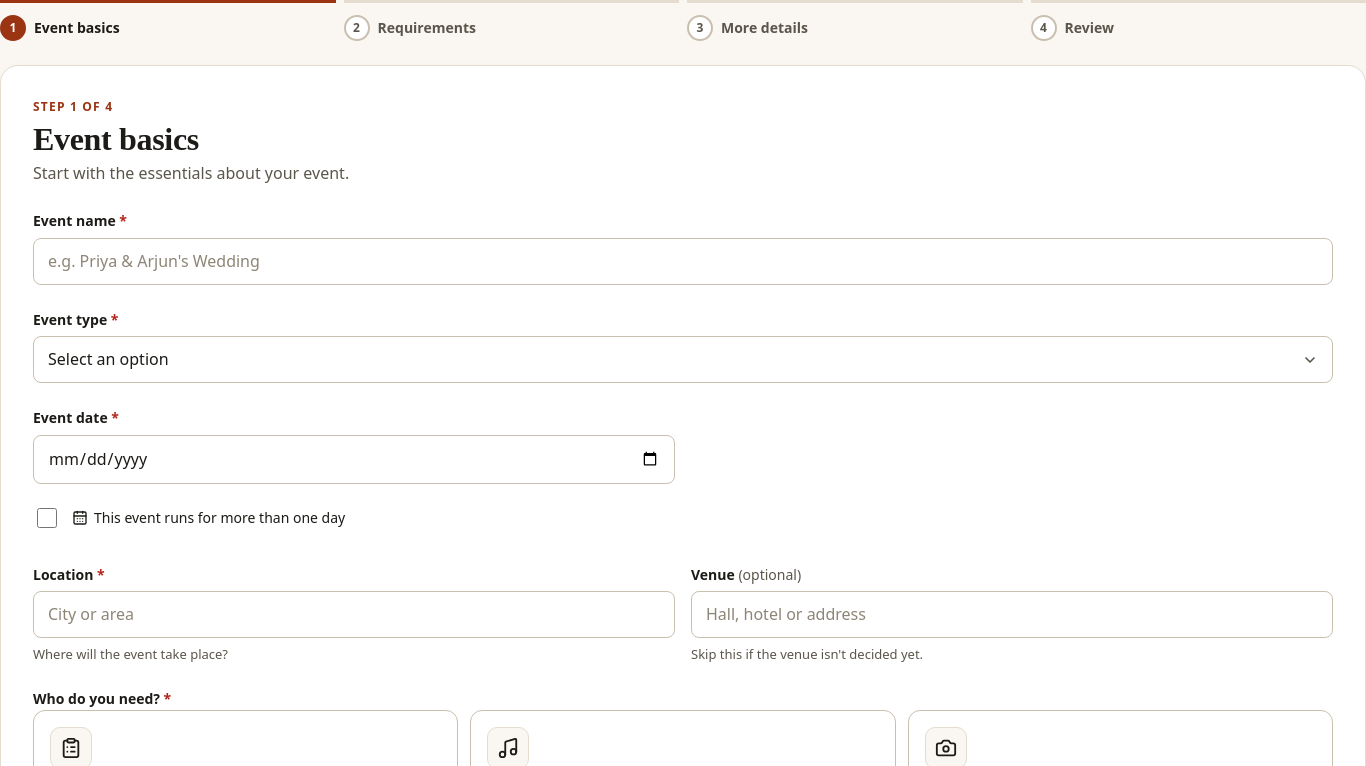
Test: RequirementWizard › steps 2 and 3 adapt to Performer
Step 1. Type "Wedding Celebration" into the field labelled "Event name *" → (683, 261), box top-left (33, 238), bottom-right (1333, 285)
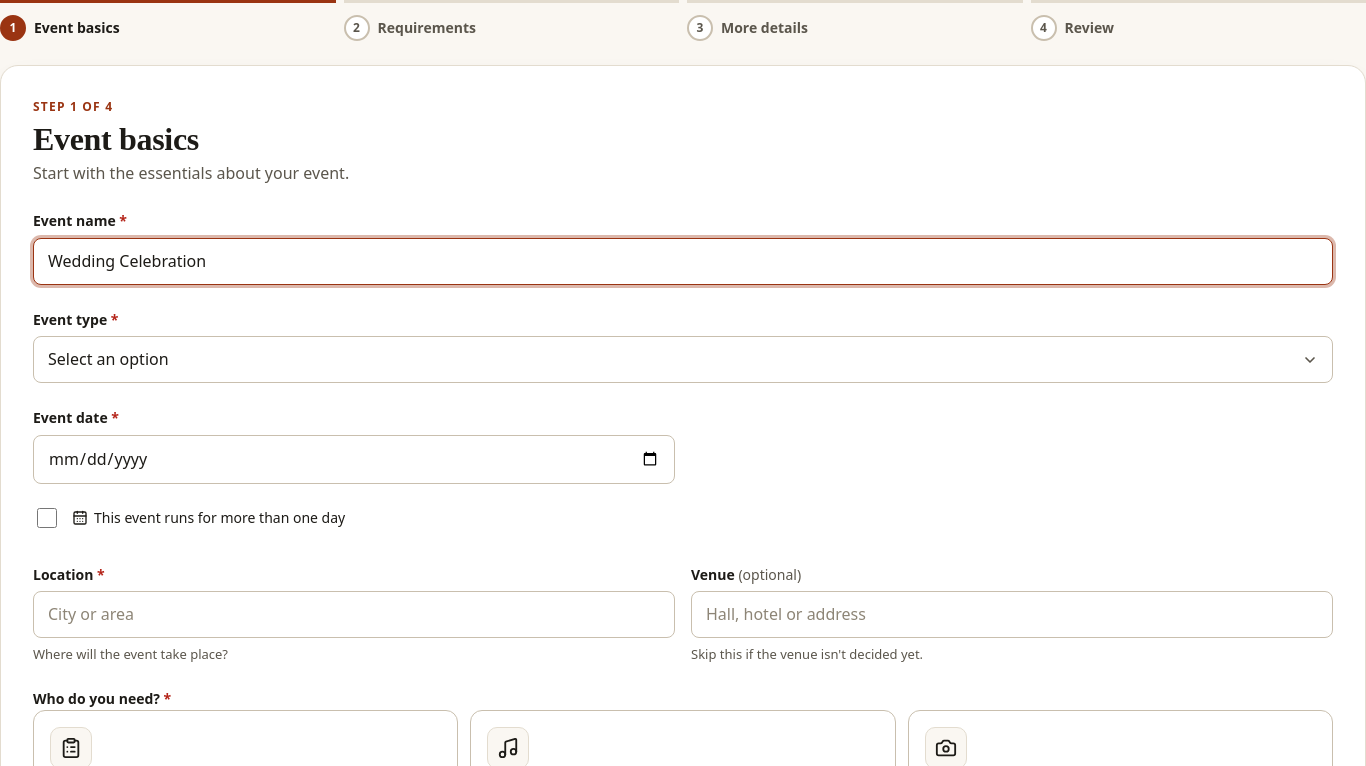
Step 2. Select "Wedding" in the dropdown labelled "Event type *" → (683, 360), box top-left (33, 336), bottom-right (1333, 383)
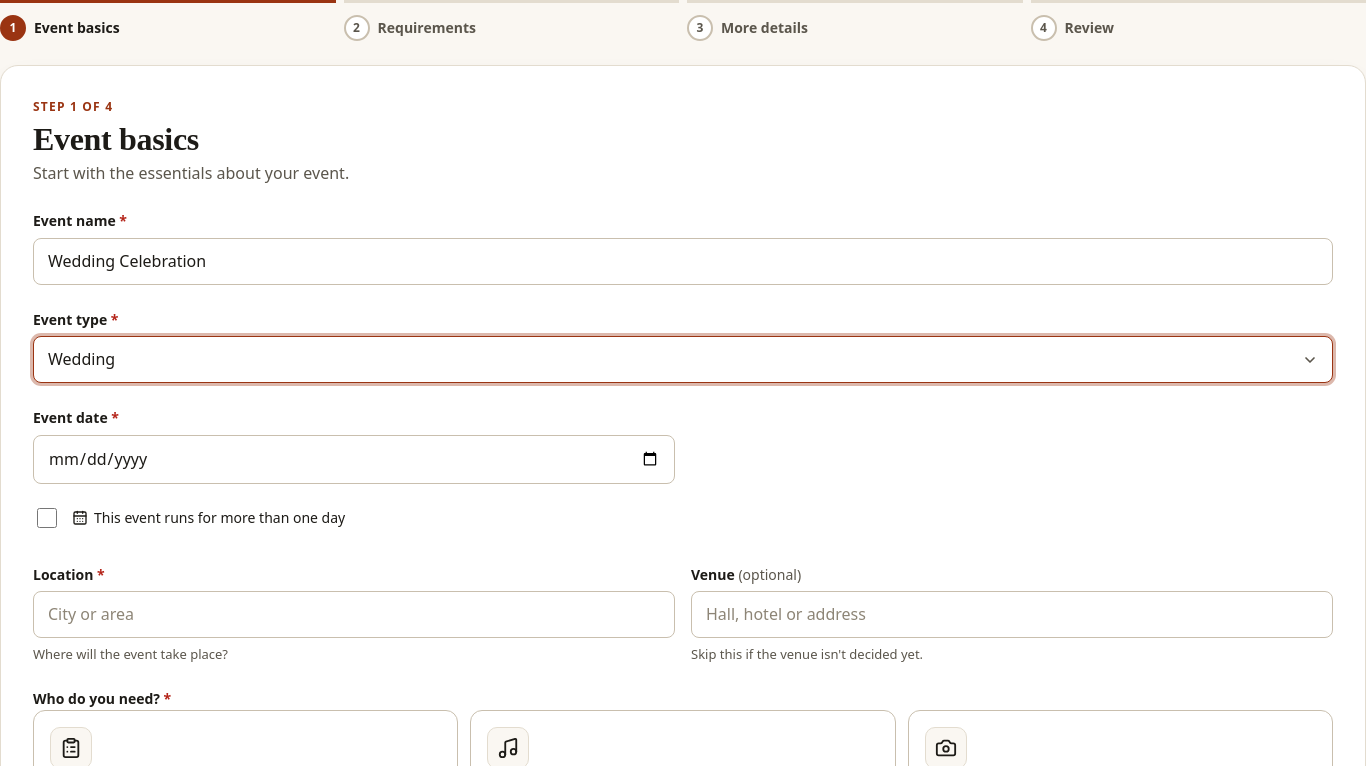
Step 3. Type "2026-12-15" into the date field labelled "Event date *" → (354, 459), box top-left (33, 435), bottom-right (675, 484)
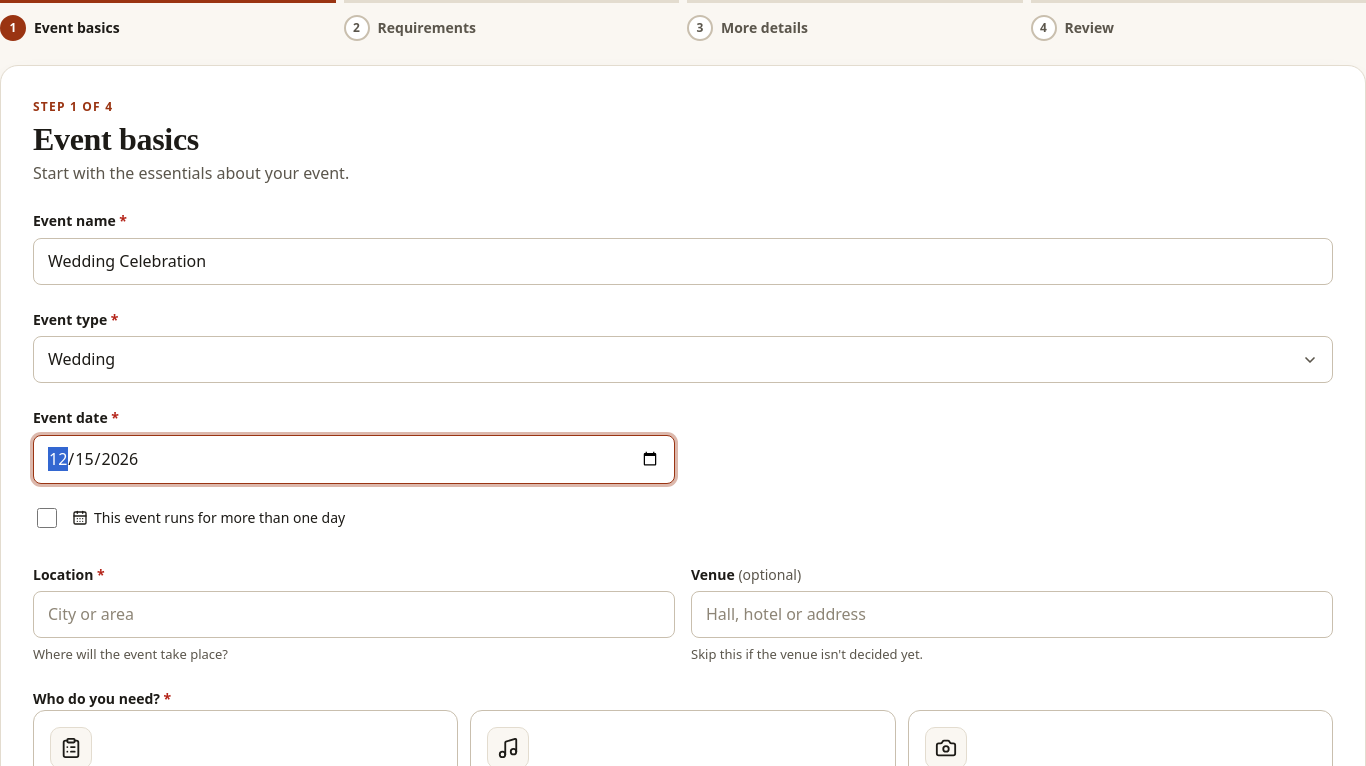
Step 4. Type "Hyderabad" into the field labelled "Location *" → (354, 615), box top-left (33, 591), bottom-right (675, 638)
(page scrolled)
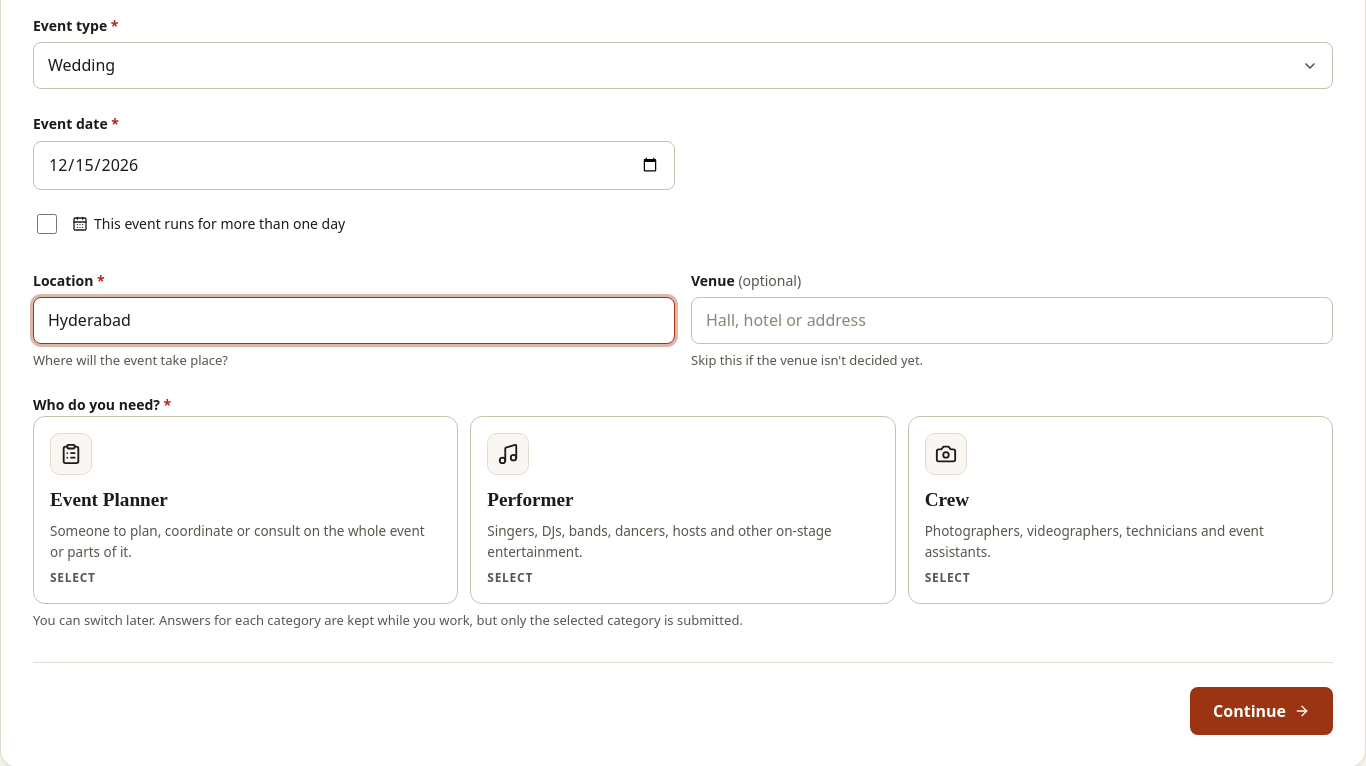
Step 5. Click the radio button labelled "Performer" → (508, 454), box top-left (470, 416), bottom-right (896, 604)
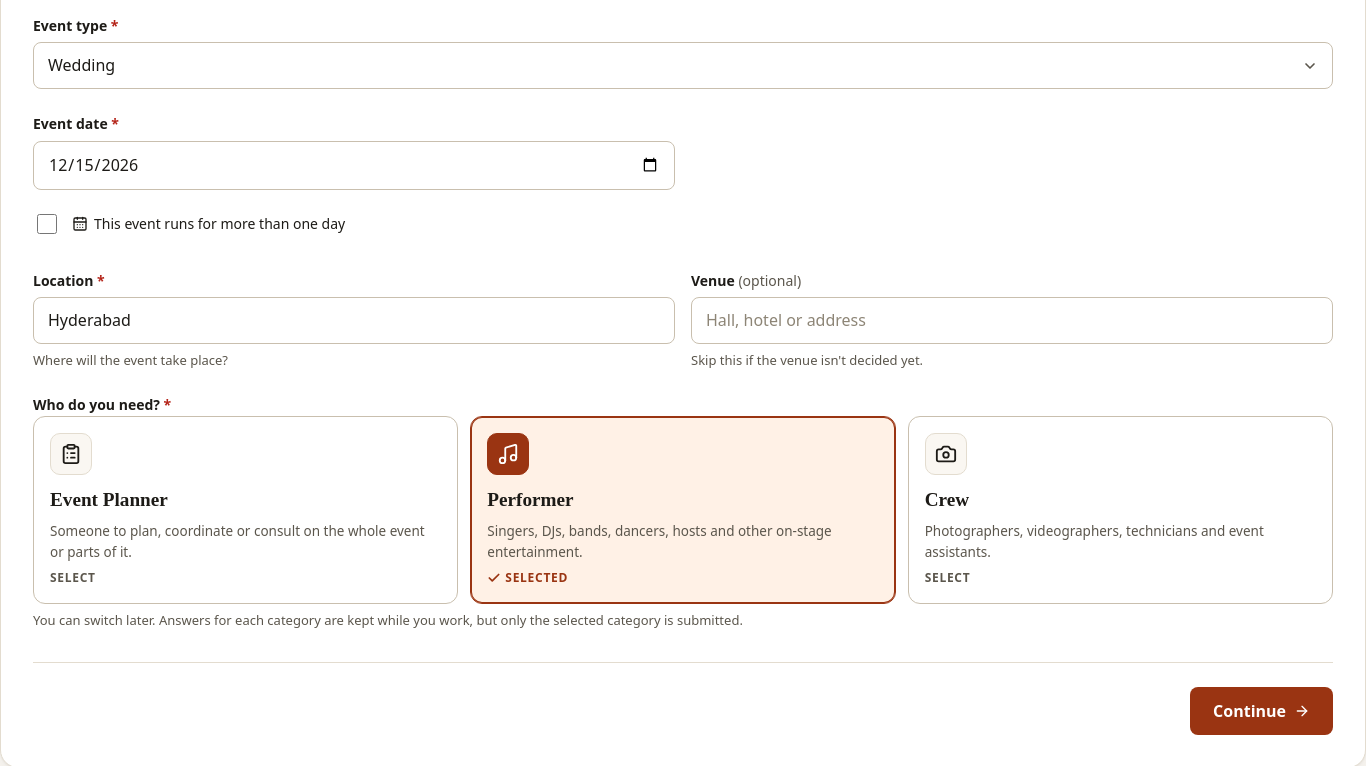
Step 6. Click the button "Continue" → (1262, 711), box top-left (1190, 687), bottom-right (1333, 735)
(page scrolled)
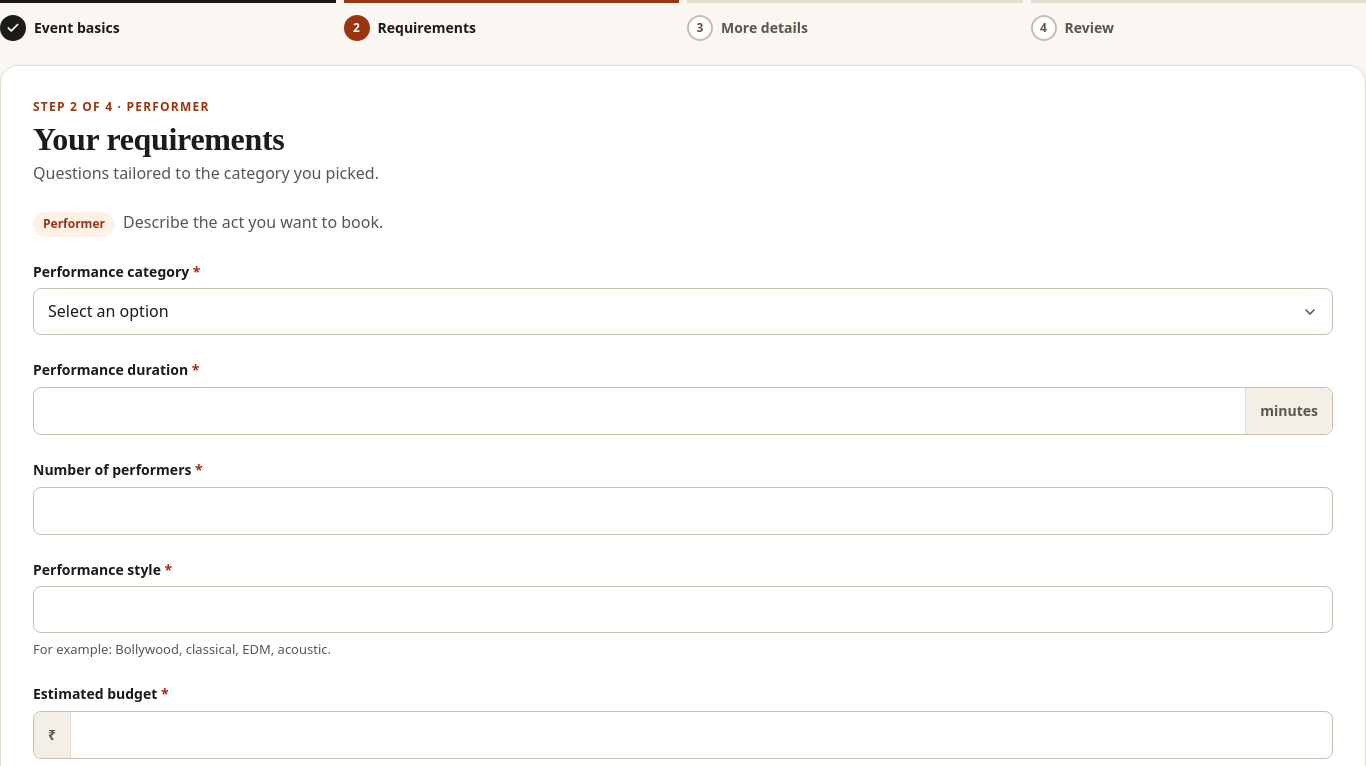
Expected: the dropdown labelled "Performance category *" is shown, top-left (33, 288), bottom-right (1333, 335)
